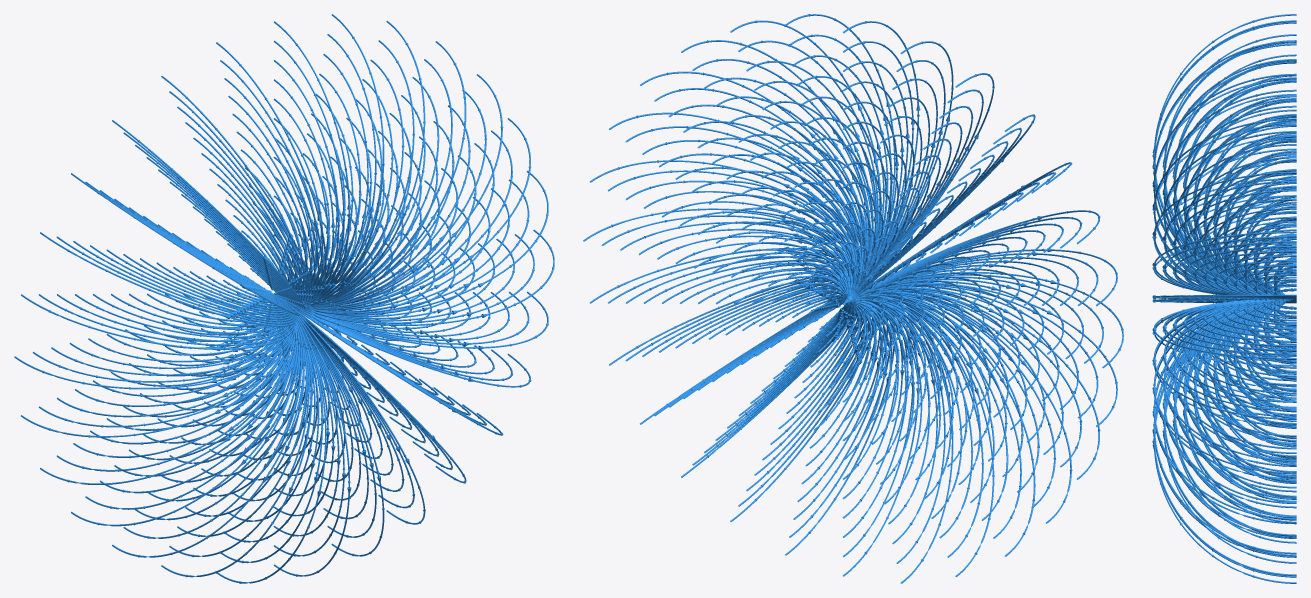
The model's file is Campo_Eletromagnetico_Oscilante_Web.glb.
3 renders of one model, left to right at view 1: azimuth 30°, elevation 25°; view 2: azimuth 150°, elevation 25°; view 3: azimuth 270°, elevation 25°, orthographic. The views are drawn at different scales.
Visible parts, largest first — view 1: Campo_Azul; view 2: Campo_Azul; view 3: Campo_Azul.
Part boxes in pixels (box(x1,y1,x2,y2)): Campo_Azul: box(14, 14, 554, 583); Campo_Azul: box(583, 14, 1123, 583); Campo_Azul: box(1152, 14, 1296, 583).
Size of the model in its own units: 4.41 by 4.41 by 1.12.
